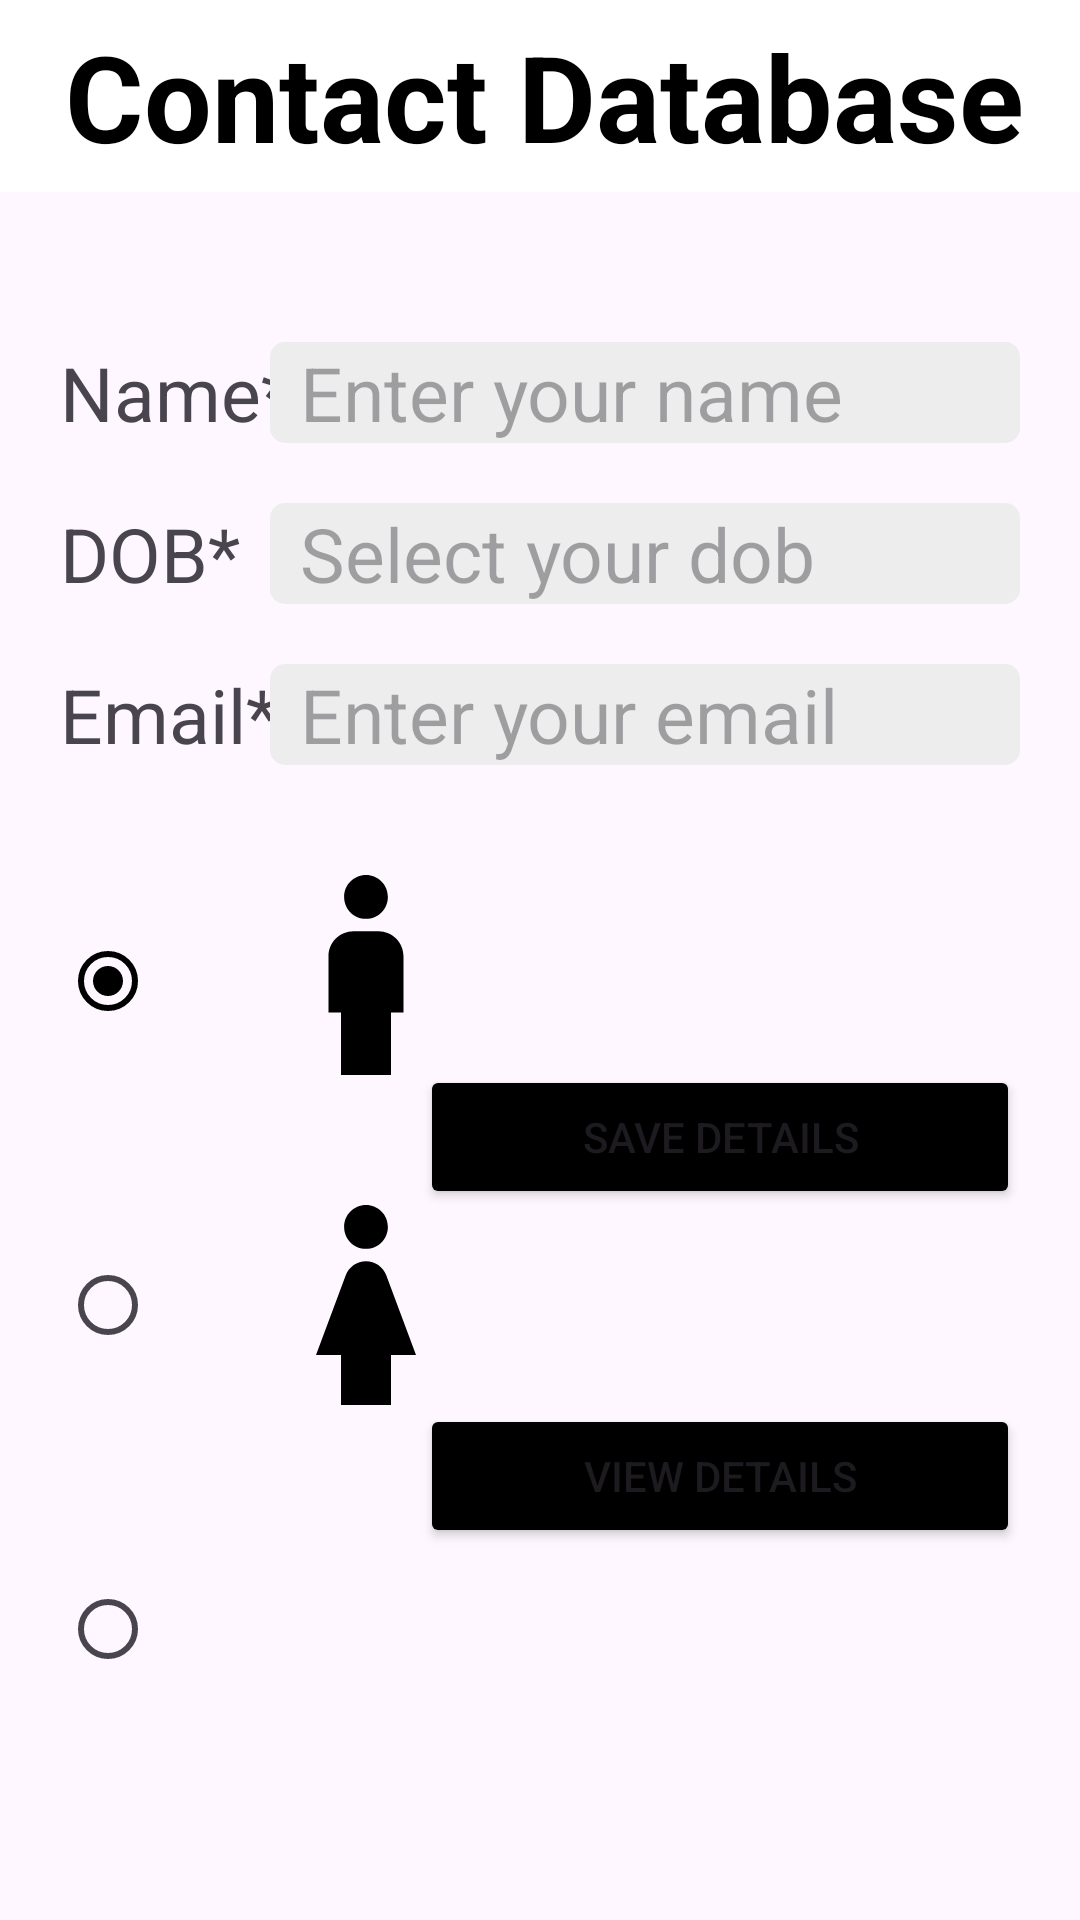

Screen size 1080px×1920px. Icon name, then its center in pixels as [x,y]:
BOY: [366,975]
GIRL: [366,1305]
